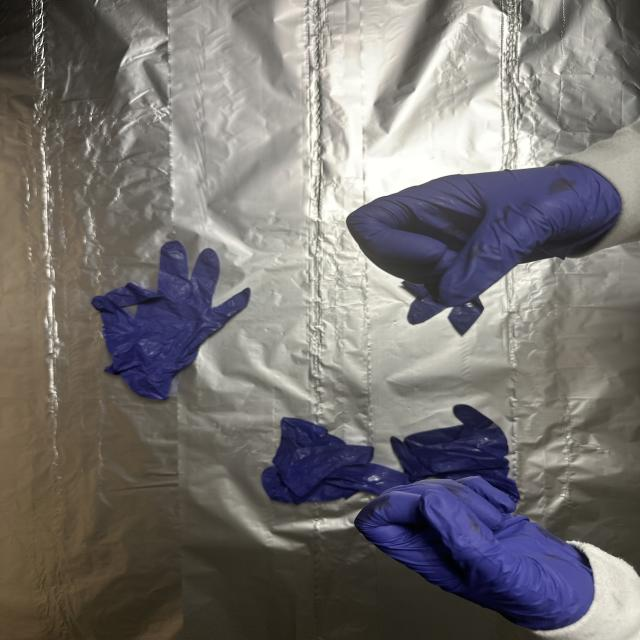gloves_contaminated: (348, 160, 624, 306), (355, 480, 594, 630)
